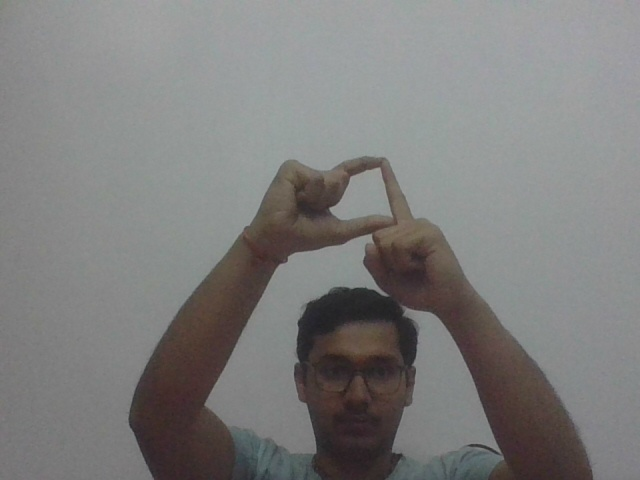D: (265, 145, 469, 305)
